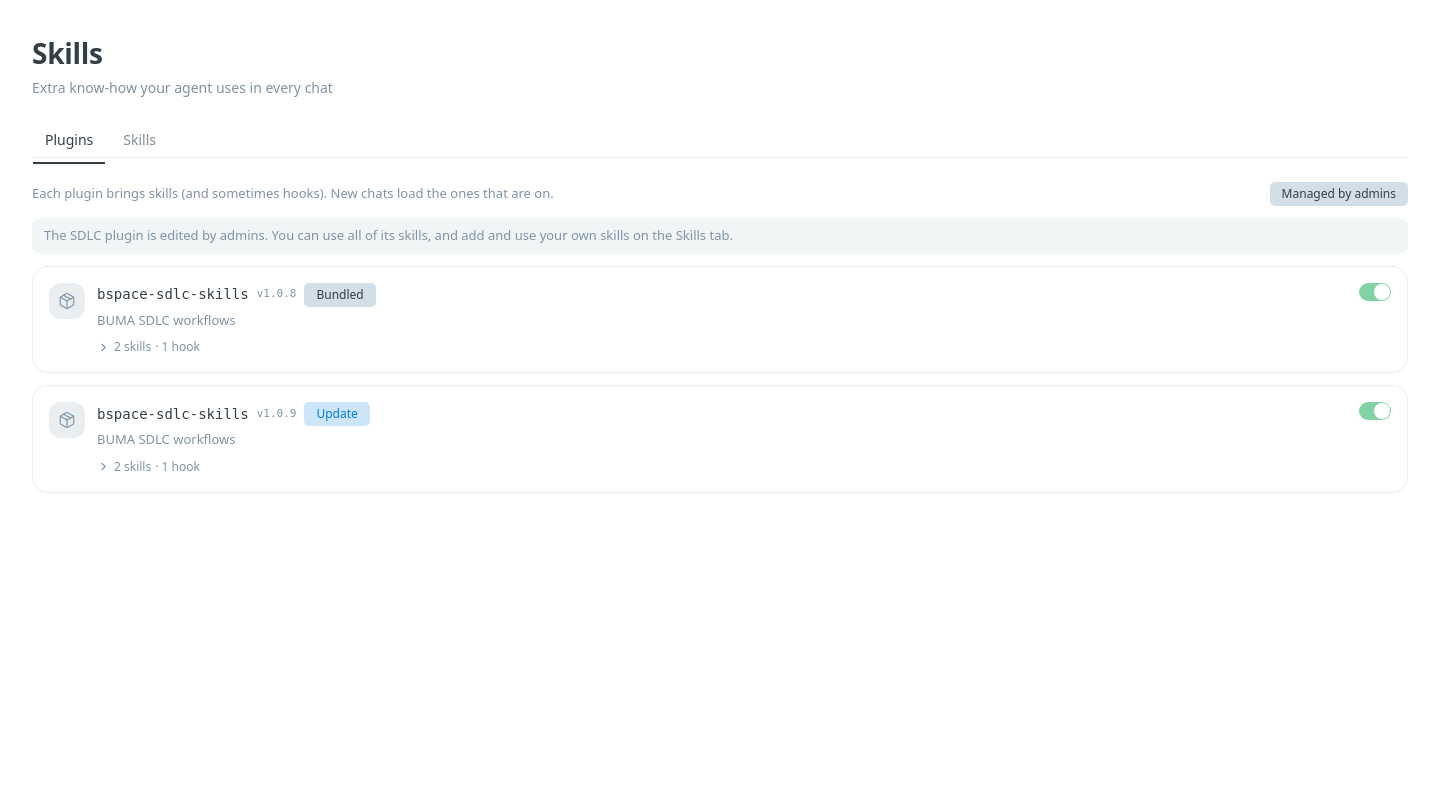
Test case: Skills screen › only an admin edits the SDLC plugin › anyone else sees it read-only: no way to add, remove or switch plugins, and a note saying who edits it
Expected: the element with test id "plugin-bspace-sdlc-skills-bundled" is shown, left=32, top=266, right=1408, bottom=373
Expected: the switch named "Turn bspace-sdlc-skills on or off" in the row of "Bundled" is disabled, left=1359, top=282, right=1391, bottom=301
They can still look at what is in it.
Click the button "2 skills · 1 hook" below "Bundled" at x=148, y=347, box left=97, top=338, right=200, bottom=356
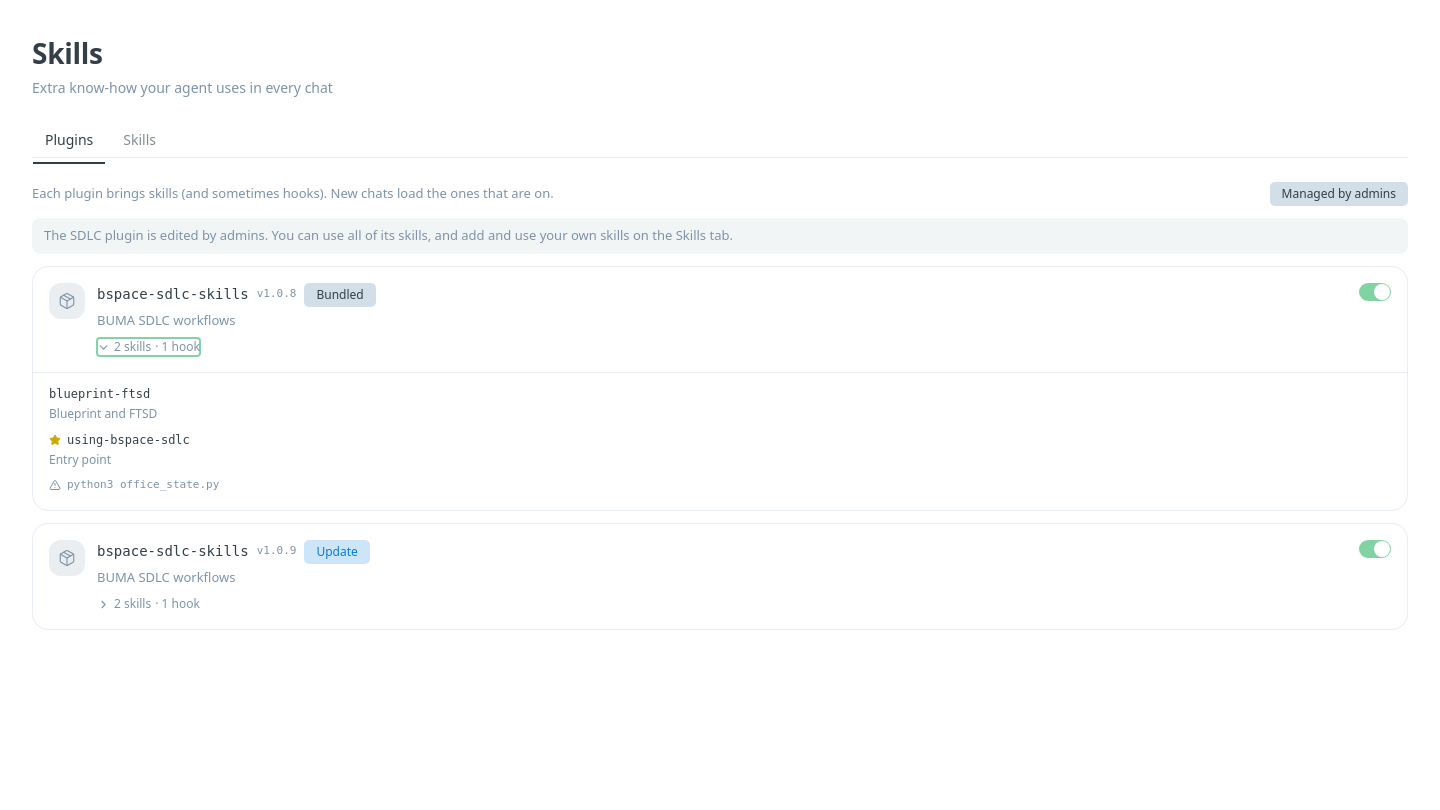
Expected: the text "blueprint-ftsd" is shown, left=49, top=387, right=150, bottom=401
